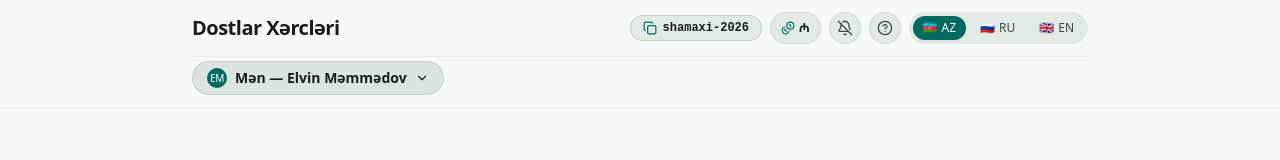
Test: App Header & Profile Switcher › copies room link on badge click and shows visual confirmation
Click the button with aria-label "Qrupu paylaş" at (696, 28), box [630,15,762,41]
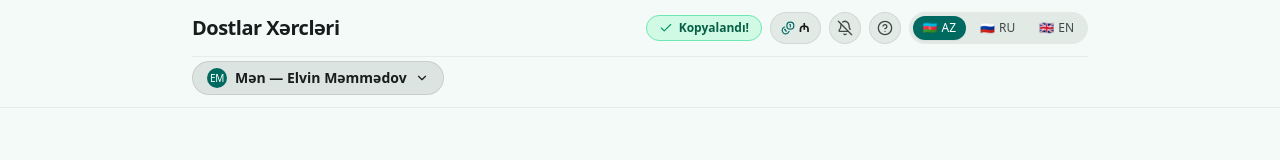
Result: the text "Kopyalandı!" is shown at [679,20,749,36]
